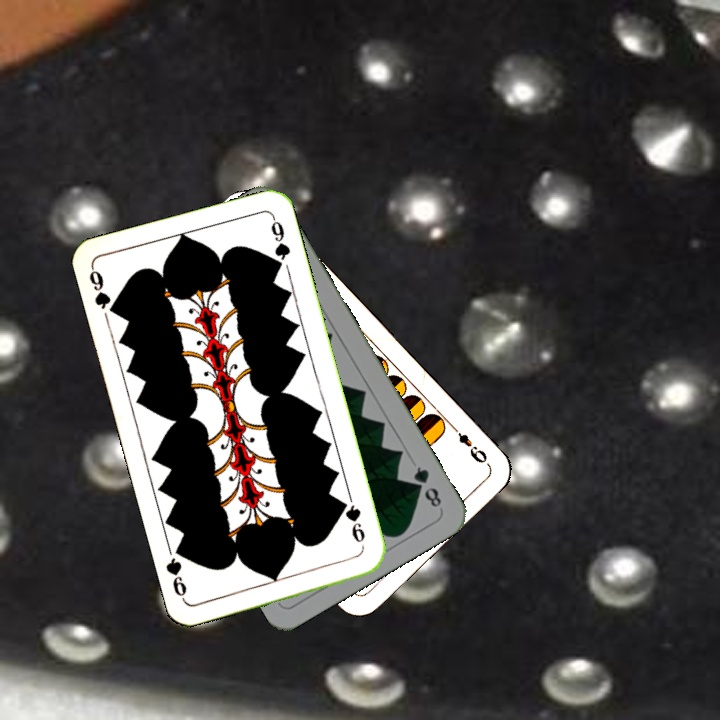E9: (446, 420, 491, 467)
G8: (409, 462, 445, 510)
G9: (85, 263, 121, 318), (337, 496, 368, 546)
